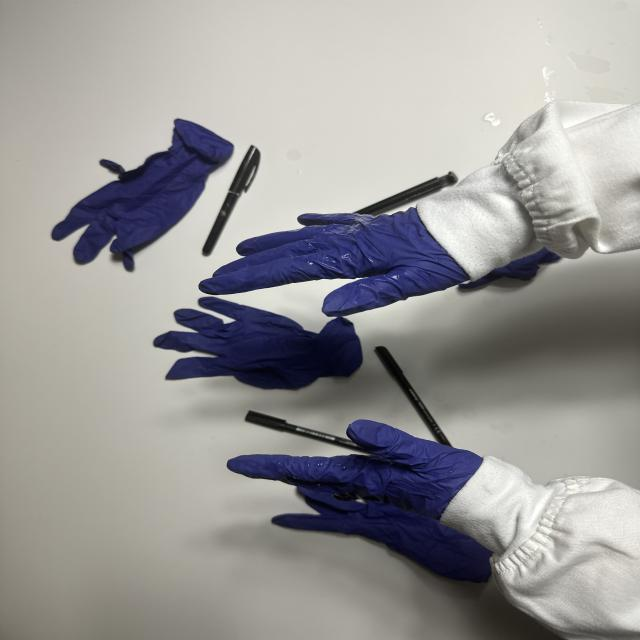gloves_contaminated: (200, 208, 470, 316), (228, 420, 482, 518)
